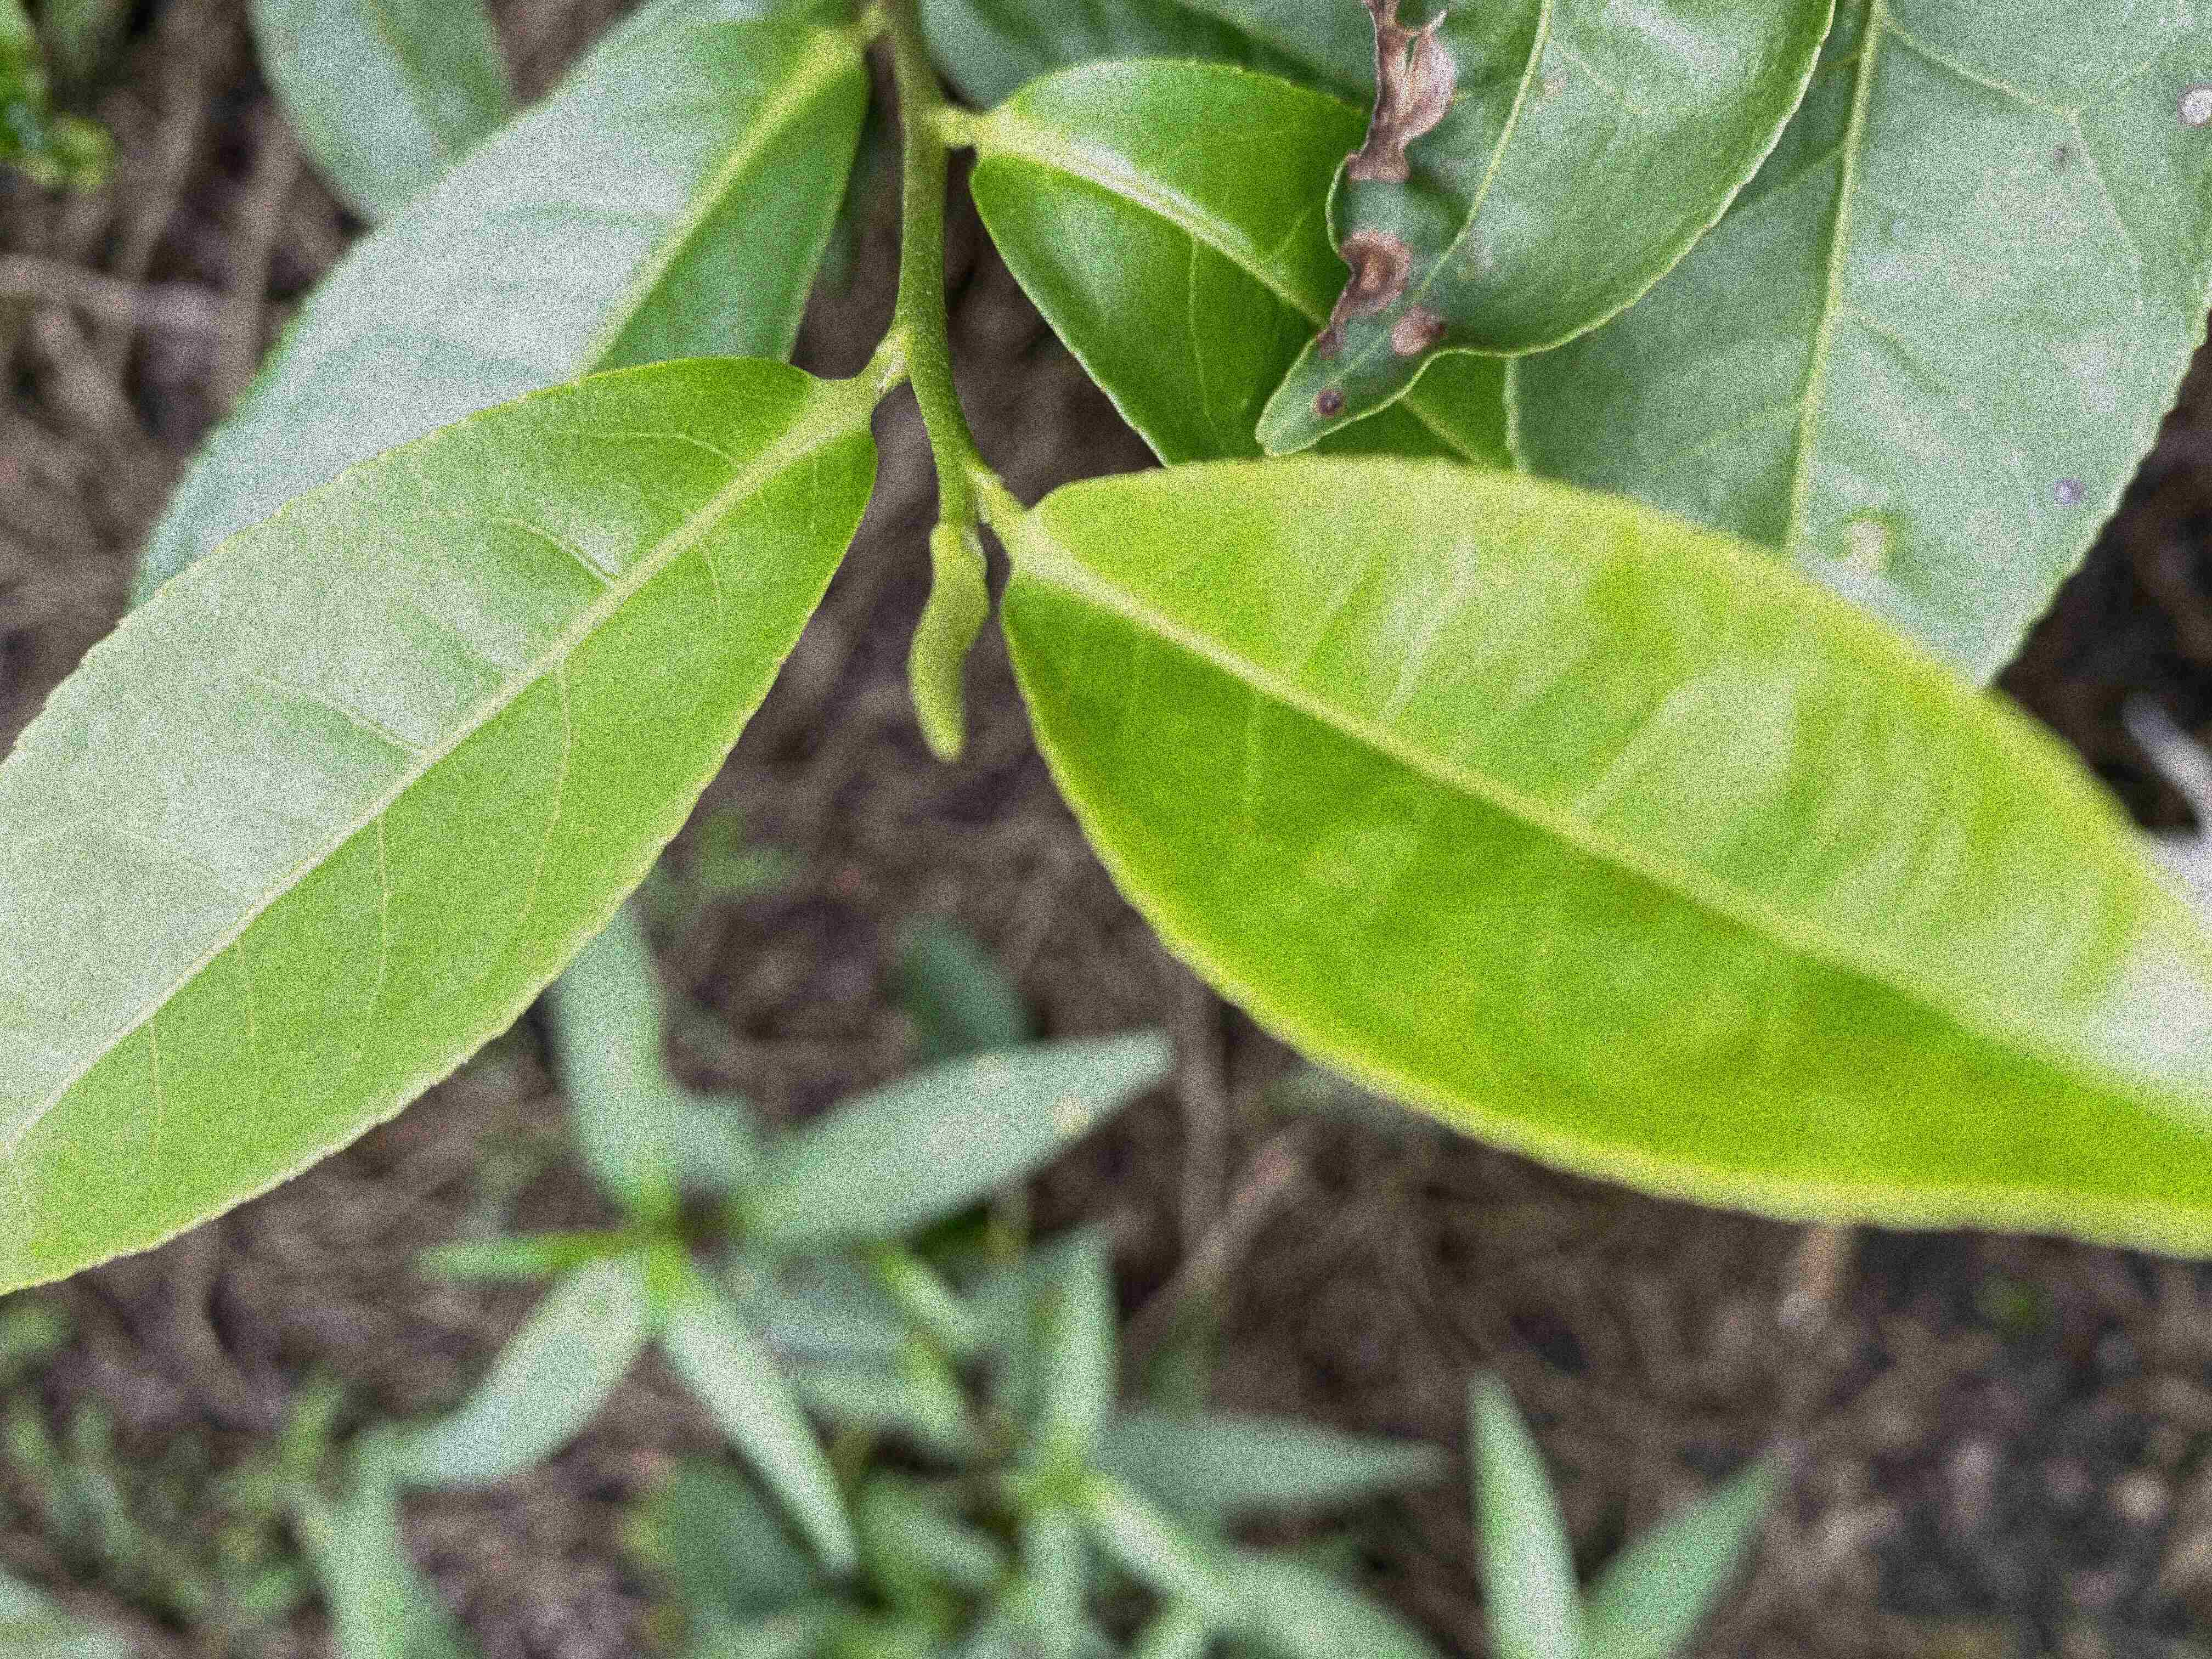healthy: (1010, 455, 2207, 1258), (3, 350, 883, 1300)
tanju_high: (1252, 2, 1843, 460)
